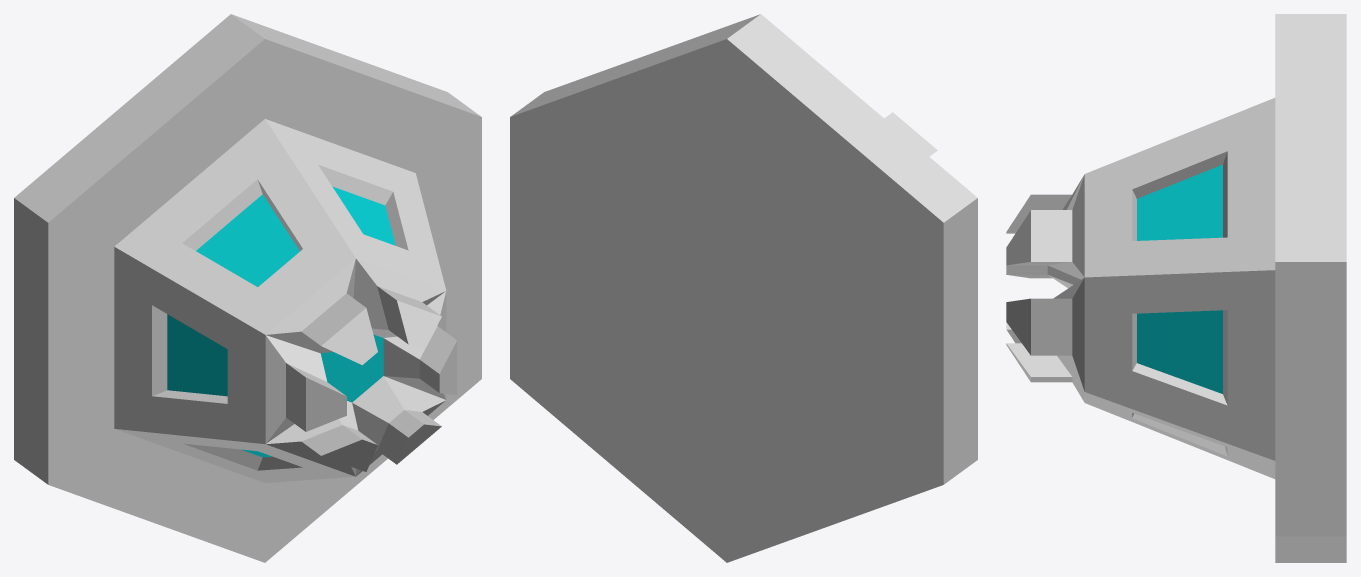
File: Hexagon decoration3.fbx
3 views of the same model, side by side, from view 1: azimuth 30°, elevation 25°; view 2: azimuth 150°, elevation 25°; view 3: azimuth 270°, elevation 25° (orthographic). The views are drawn at different scales.
Parts seen in each view (by area): view 1: Circle.002; view 2: Circle.002; view 3: Circle.002.
Boxes of the visible parts, x1,y1,x2,y2 form: Circle.002: (14, 14, 481, 562); Circle.002: (510, 14, 977, 562); Circle.002: (1006, 14, 1346, 562).
Size of the model in its own units: 173 by 200 by 112.
